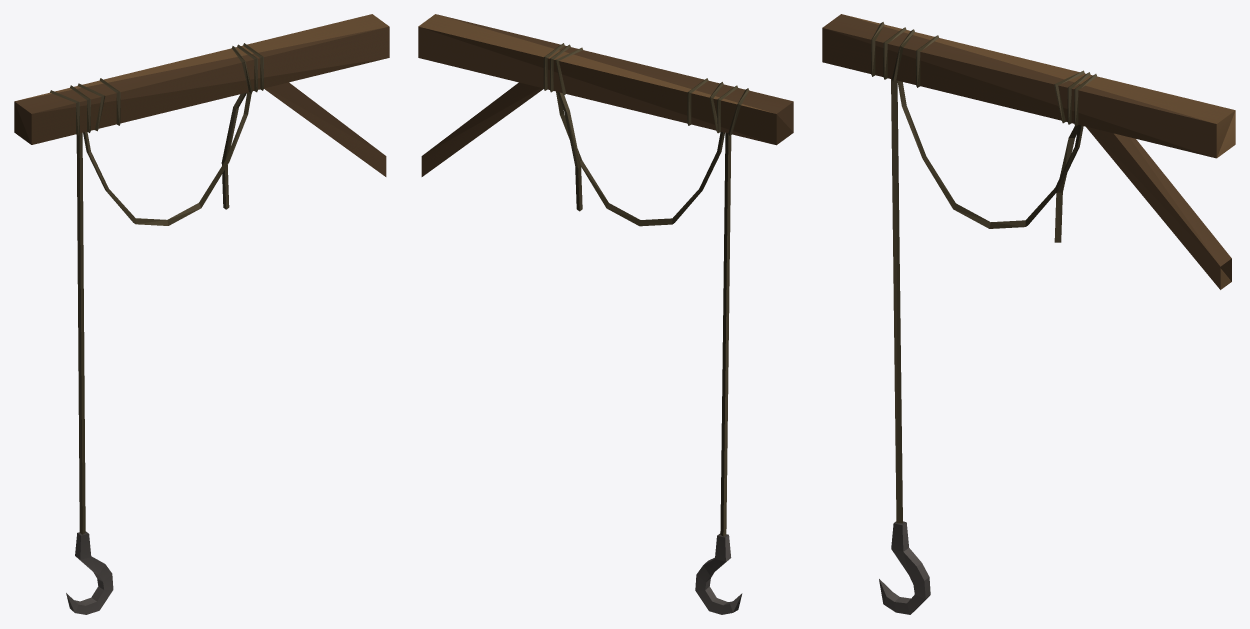
The model's file is Wood_8B_Lod0.fbx.
3 renders of one model, left to right at view 1: azimuth 30°, elevation 25°; view 2: azimuth 150°, elevation 25°; view 3: azimuth 330°, elevation 25°, orthographic. The views are drawn at different scales.
Parts seen in each view (by area): view 1: polySurface1099; view 2: polySurface1099; view 3: polySurface1099.
Boxes of the visible parts, x1=… form: polySurface1099: x1=14, y1=14, x2=389, y2=614; polySurface1099: x1=418, y1=14, x2=793, y2=614; polySurface1099: x1=822, y1=14, x2=1235, y2=614.
Size of the model in its own units: 600 by 836 by 55.
1 material, 1 textured.
